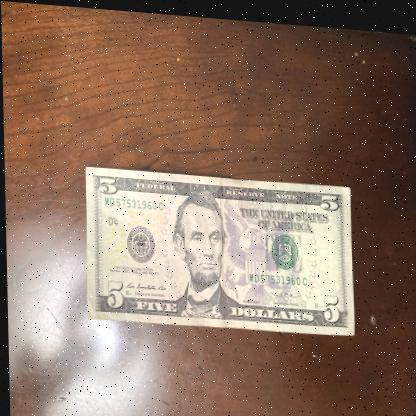five-front: (82, 164, 353, 332)
